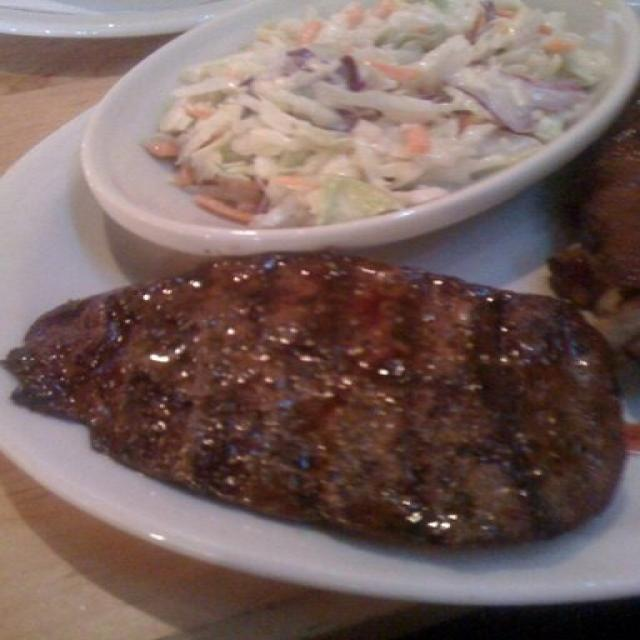Steak: (20, 248, 638, 550)
